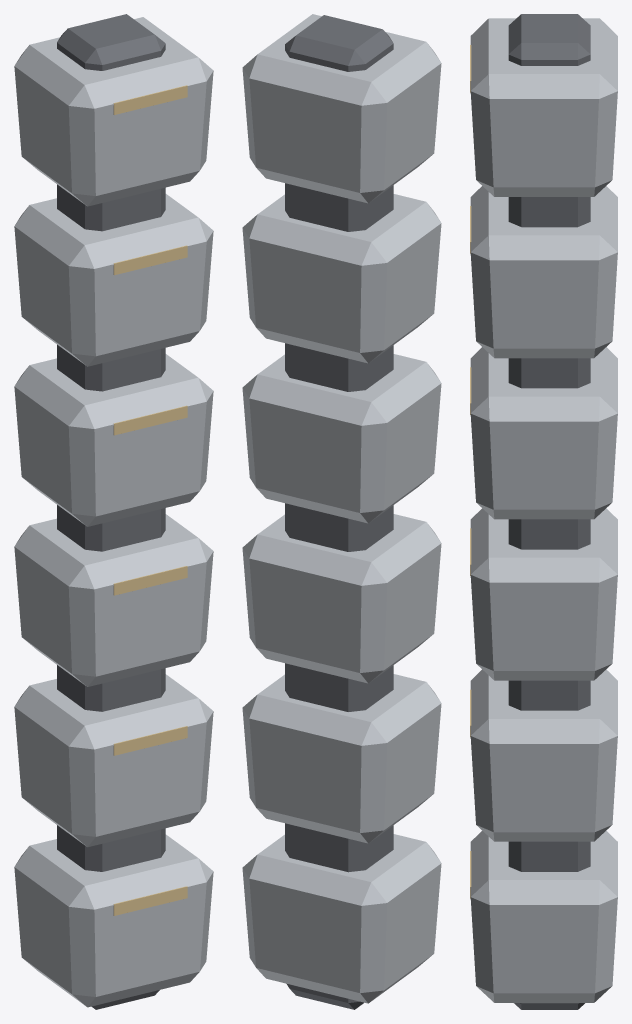
The model's file is bastion.spine.glb.
The picture shows the model from 3 angles, left to right: view 1: azimuth 30°, elevation 25°; view 2: azimuth 150°, elevation 25°; view 3: azimuth 270°, elevation 25°; orthographic projection.
Bounding box in the file's own units: 1.58 × 10 × 1.39.
